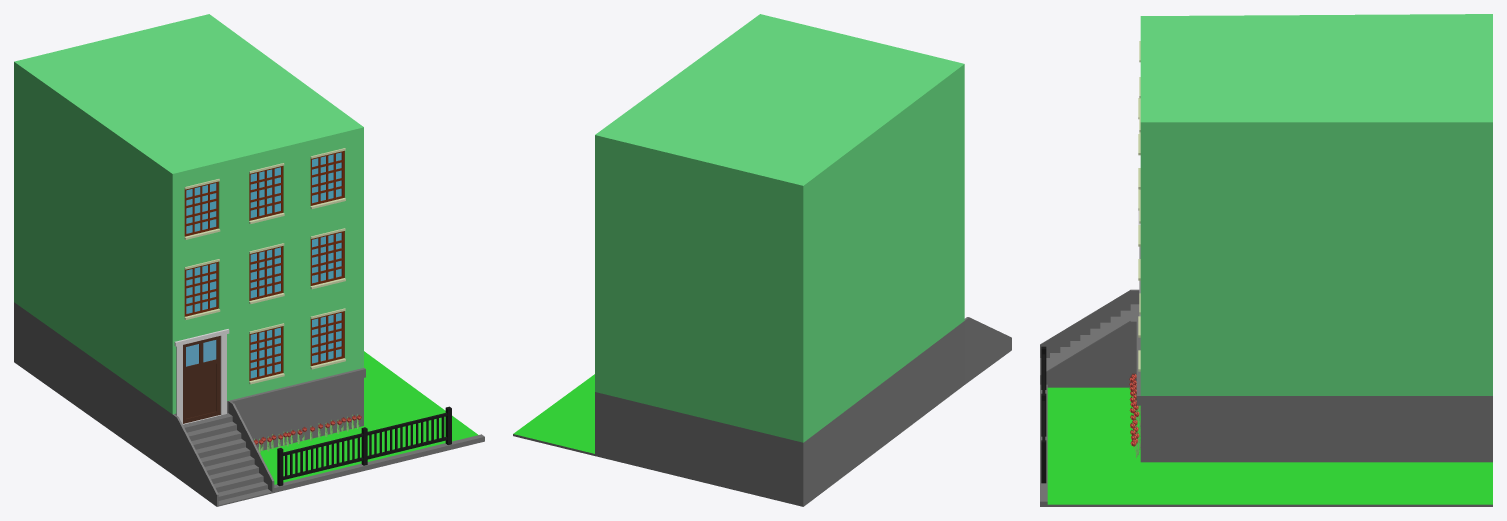
File: Budynek04.glb
The picture shows the model from 3 angles, left to right: view 1: azimuth 30°, elevation 25°; view 2: azimuth 150°, elevation 25°; view 3: azimuth 270°, elevation 25°; orthographic projection. The views are drawn at different scales.
Visible parts, largest first — view 1: Tree Type5 02 Model; view 2: Tree Type5 02 Model; view 3: Tree Type5 02 Model.
Part boxes in pixels (x1=…): Tree Type5 02 Model: x1=14, y1=14, x2=484, y2=506; Tree Type5 02 Model: x1=513, y1=14, x2=1011, y2=506; Tree Type5 02 Model: x1=1040, y1=14, x2=1492, y2=506.
Size of the model in its own units: 3.55 by 3.76 by 4.5.
